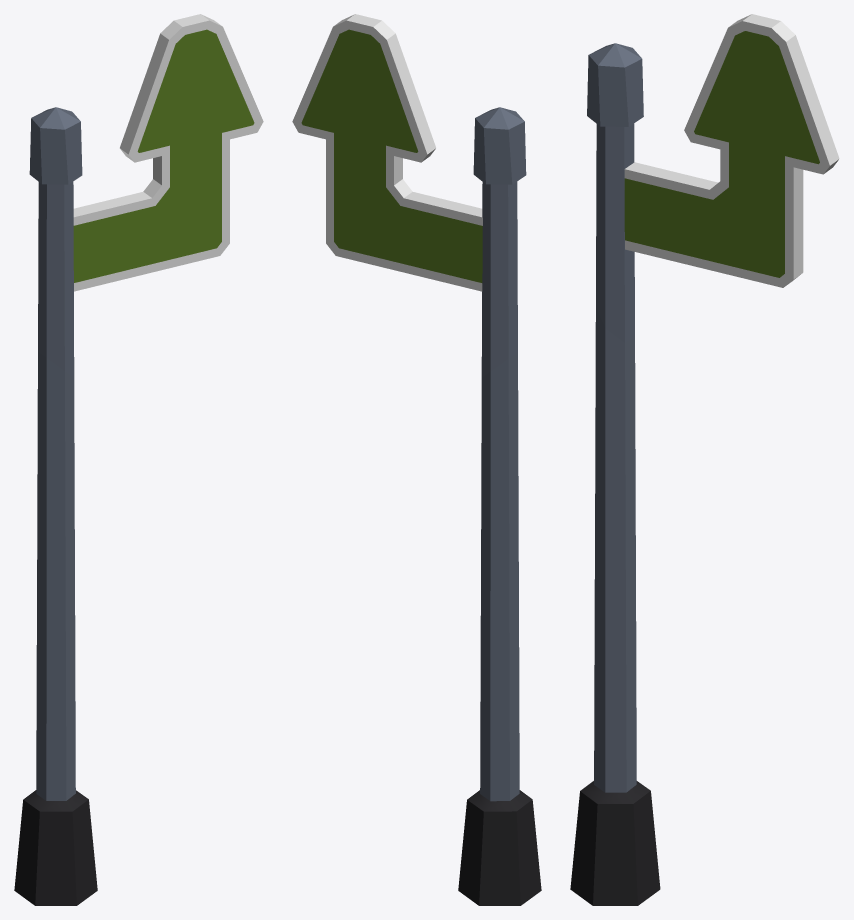
File: Road Sign 4 Fractured.fbx
The picture shows the model from 3 angles, left to right: view 1: azimuth 30°, elevation 25°; view 2: azimuth 150°, elevation 25°; view 3: azimuth 330°, elevation 25°; orthographic projection. The views are drawn at different scales.
Visible parts, largest first — view 1: Road_Sign_04_Breaking.001, Road_Sign_04_Breaking; view 2: Road_Sign_04_Breaking.001, Road_Sign_04_Breaking; view 3: Road_Sign_04_Breaking.001, Road_Sign_04_Breaking.
Part boxes in pixels (x1,y1,x2,y2): Road_Sign_04_Breaking.001: (29,14,263,377); Road_Sign_04_Breaking: (14,352,97,905); Road_Sign_04_Breaking.001: (292,14,526,377); Road_Sign_04_Breaking: (458,352,541,905); Road_Sign_04_Breaking.001: (587,14,839,342); Road_Sign_04_Breaking: (570,307,660,905).
Size of the model in its own units: 69.77 by 238 by 21.5.
